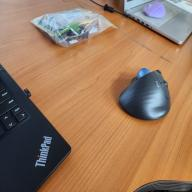mouse: (118, 66, 172, 122), (144, 2, 167, 20)
